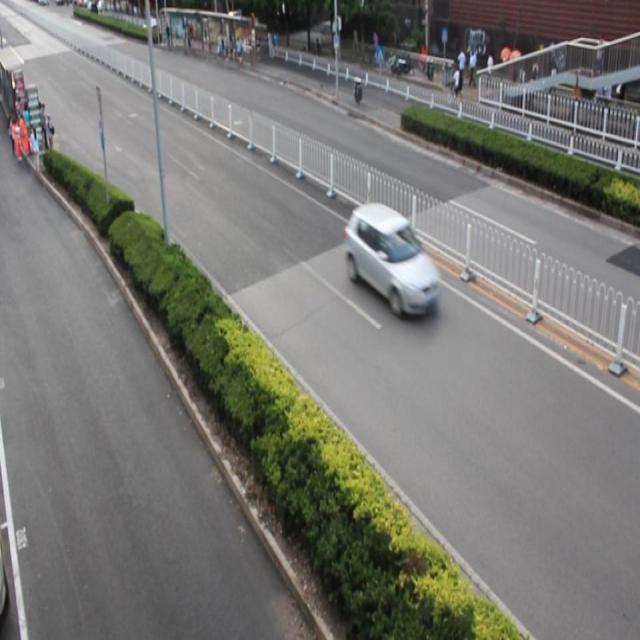car: (344, 200, 440, 318)
